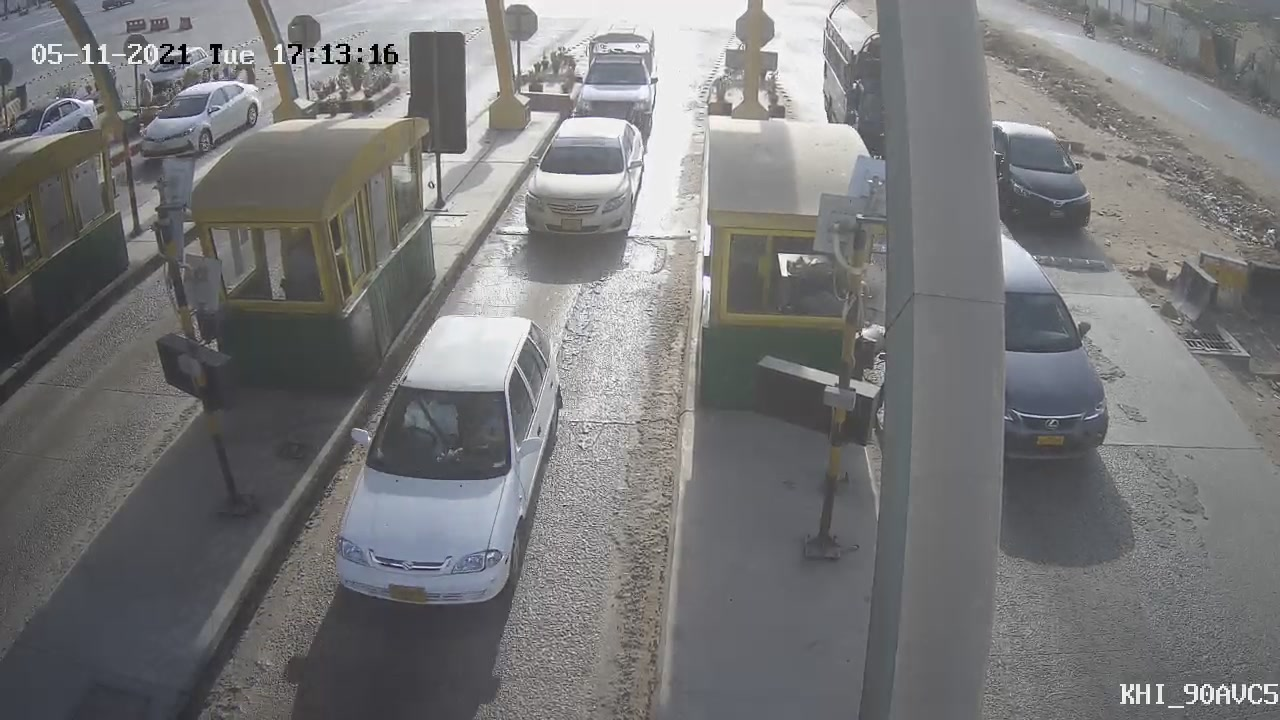F1: (516, 101, 656, 249), (551, 12, 674, 162)
